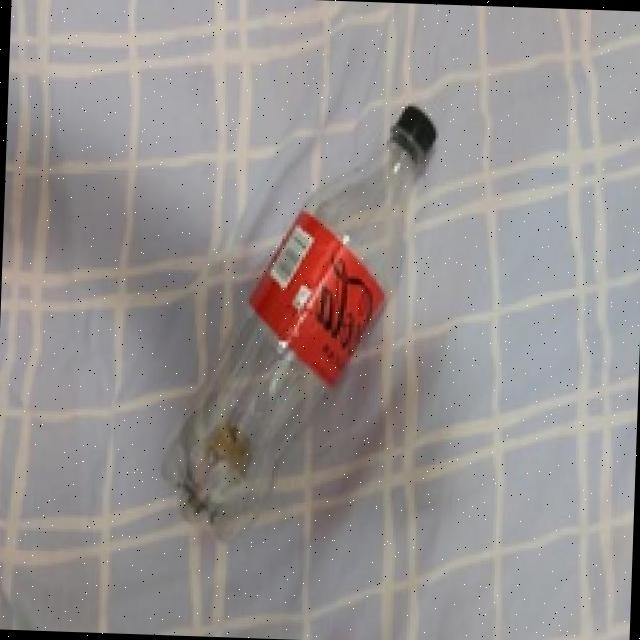bottle: (144, 94, 444, 543)
cap: (387, 106, 439, 158)
label: (232, 216, 411, 380)
